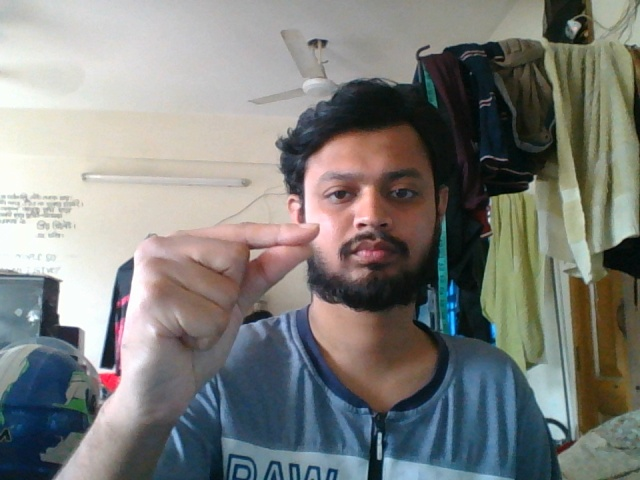onushhar: (116, 214, 319, 407)
